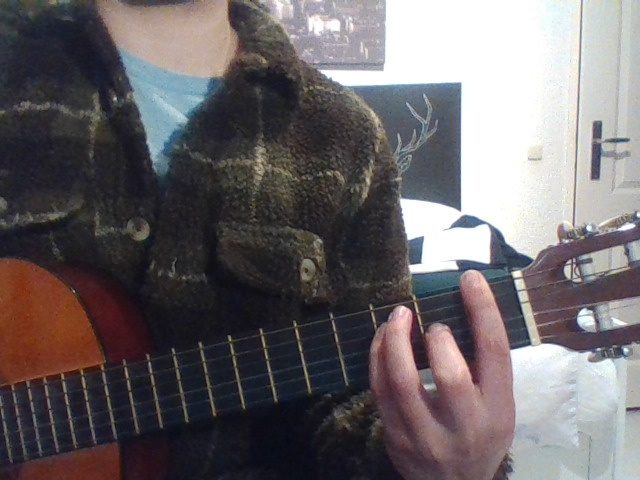F: (354, 259, 577, 480)
